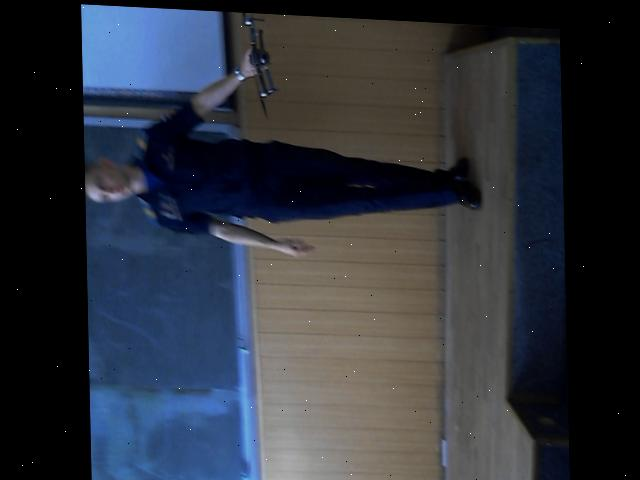drone: (234, 10, 275, 119)
